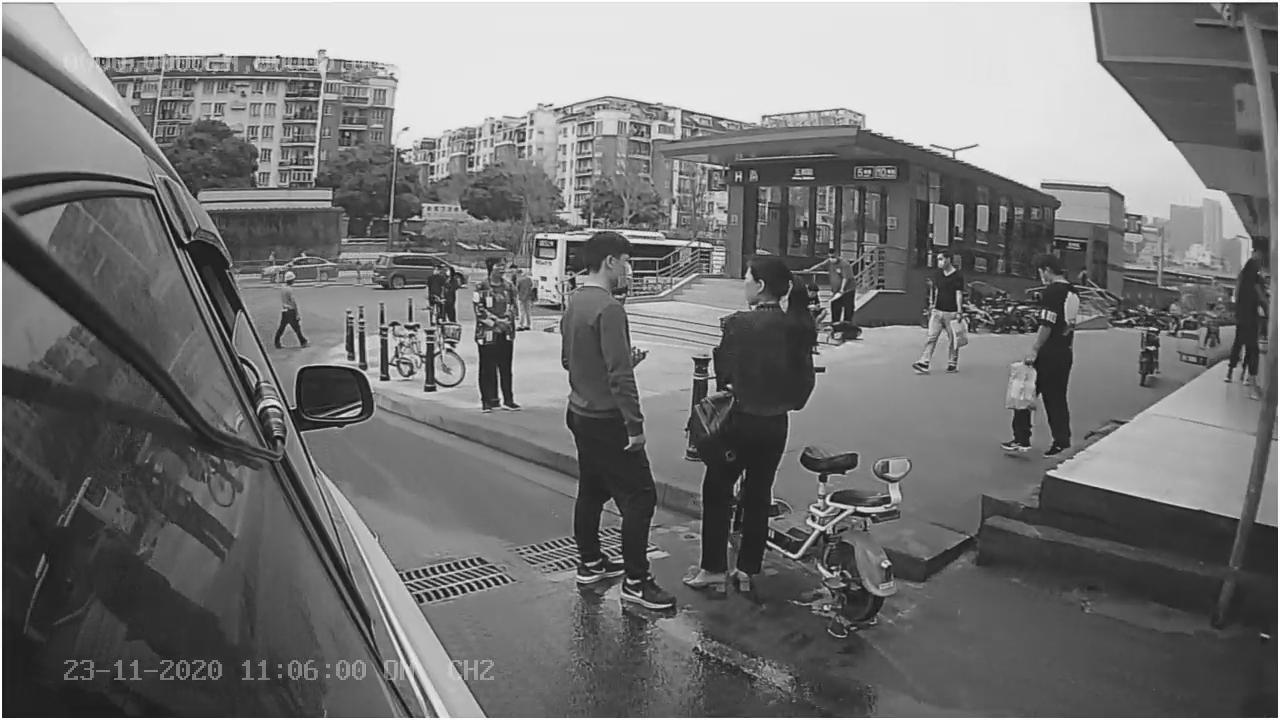person: (555, 228, 686, 614)
